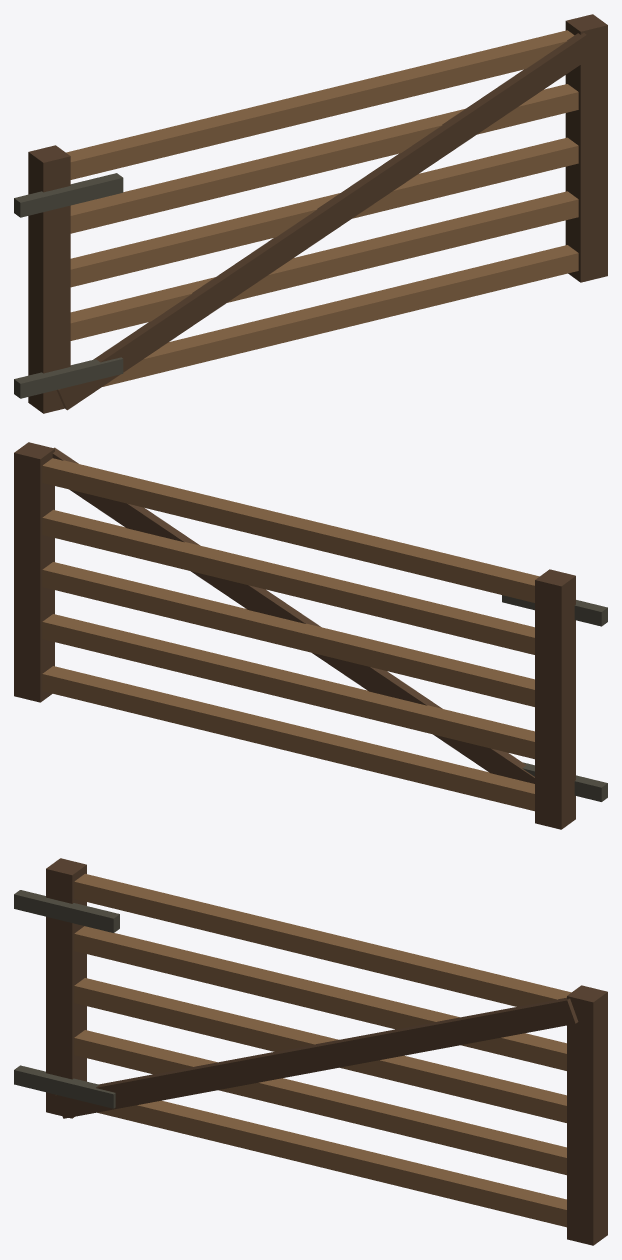
The model's file is five_bar_gate.glb.
3 views of the same model, one above another, from view 1: azimuth 30°, elevation 25°; view 2: azimuth 150°, elevation 25°; view 3: azimuth 330°, elevation 25° (orthographic). The views are drawn at different scales.
Visible parts, largest first — view 1: Five-bar gate; view 2: Five-bar gate; view 3: Five-bar gate.
Boxes of the visible parts, x1,y1,x2,y2 form: Five-bar gate: [14, 14, 607, 413]; Five-bar gate: [14, 442, 607, 829]; Five-bar gate: [14, 858, 607, 1245].
Size of the model in its own units: 1.95 by 0.79 by 0.114.
